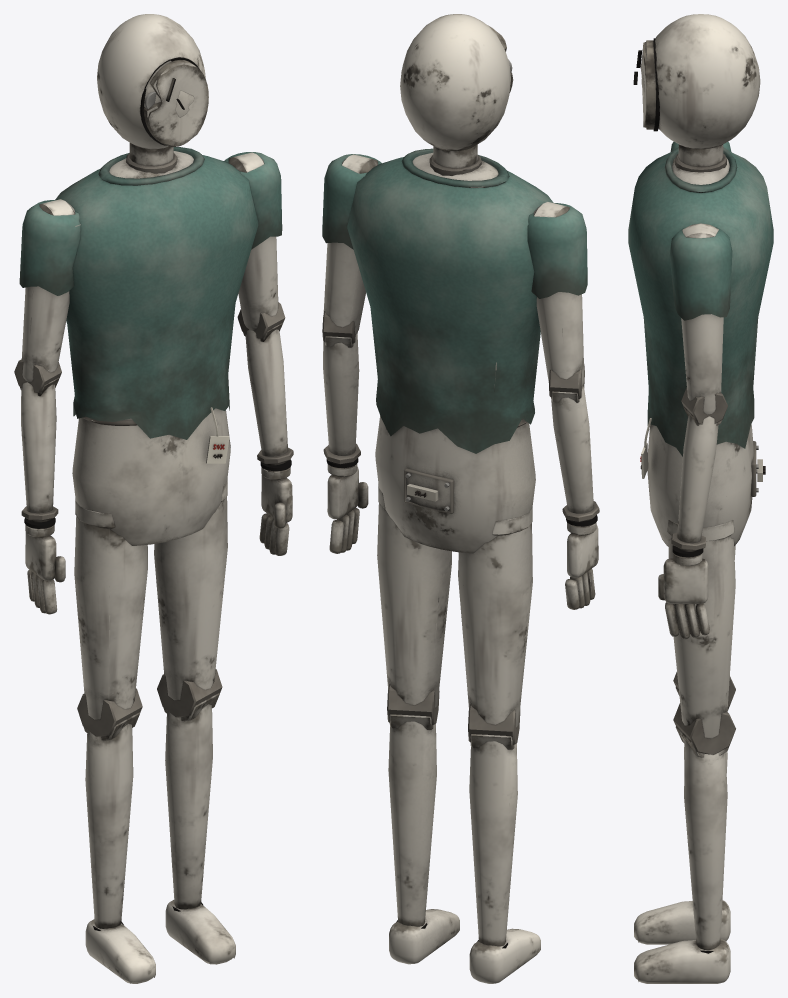
The model's file is sorter_decoy.fbx.
3 renders of one model, left to right at view 1: azimuth 30°, elevation 25°; view 2: azimuth 150°, elevation 25°; view 3: azimuth 270°, elevation 25°, orthographic.
Visible parts, largest first — view 1: Torso, Thigh, Head, LeftThigh, LeftShin, Shin, UpperArm, LeftUpperArm, Forearm, LeftForearm, Hand, LeftHand; view 2: Torso, Thigh, Head, LeftThigh, Shin, LeftShin, UpperArm, LeftUpperArm, Forearm, LeftForearm, LeftHand, Hand; view 3: Torso, Head, LeftShin, LeftThigh, LeftUpperArm, LeftForearm, LeftHand, Shin.
Boxes of the visible parts, box(x1,y1,x2,y2) form: Torso: box(55, 147, 258, 545); Thigh: box(74, 498, 147, 736); Head: box(97, 14, 208, 165); LeftThigh: box(154, 478, 227, 717); LeftShin: box(163, 692, 235, 964); Shin: box(83, 712, 155, 983); UpperArm: box(14, 199, 80, 392); LeftUpperArm: box(224, 152, 285, 338); Forearm: box(20, 377, 59, 522); LeftForearm: box(243, 323, 293, 465); Hand: box(24, 517, 65, 614); LeftHand: box(259, 459, 292, 555); Torso: box(347, 148, 553, 553); Thigh: box(458, 508, 532, 744); Head: box(400, 14, 513, 167); LeftThigh: box(377, 484, 451, 724); Shin: box(469, 734, 540, 983); LeftShin: box(388, 714, 459, 964); UpperArm: box(527, 202, 587, 398); LeftUpperArm: box(322, 154, 381, 343); Forearm: box(551, 386, 599, 521); LeftForearm: box(323, 333, 360, 464); LeftHand: box(326, 458, 368, 553); Hand: box(565, 515, 598, 609); Torso: box(628, 147, 773, 546); Head: box(633, 14, 760, 166); LeftShin: box(634, 726, 730, 983); LeftThigh: box(667, 520, 735, 754); LeftUpperArm: box(669, 223, 732, 424); LeftForearm: box(671, 407, 722, 551); LeftHand: box(658, 545, 709, 639); Shin: box(634, 686, 730, 944).
Bounding box in the file's own units: 1.66 × 5.6 × 0.7829.
Materials: 1 (1 with a texture image).
